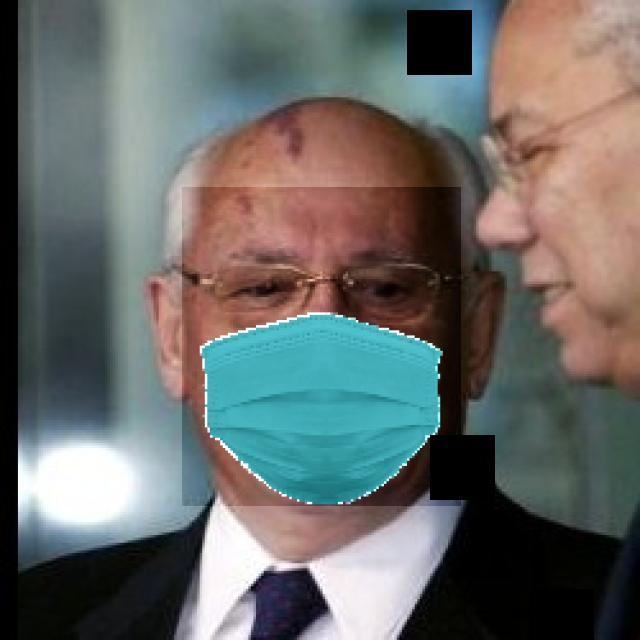surgical: (182, 187, 461, 506)
